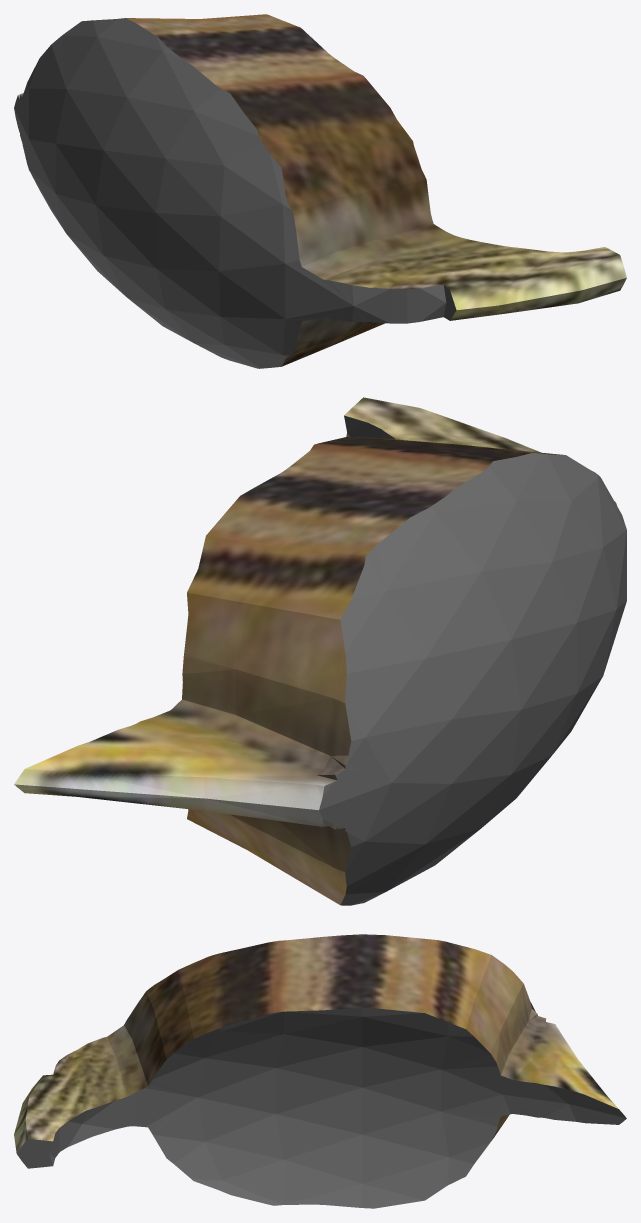
Rendered from link_8_composite.obj.
The picture shows the model from 3 angles, top to bottom: view 1: azimuth 30°, elevation 25°; view 2: azimuth 150°, elevation 25°; view 3: azimuth 270°, elevation 25°; orthographic projection. The views are drawn at different scales.
Parts seen in each view (by area): view 1: joint_7; view 2: joint_7; view 3: joint_7.
Part boxes in pixels (box(x1,y1,x2,y2)): joint_7: box(14, 14, 626, 368); joint_7: box(14, 397, 626, 905); joint_7: box(14, 934, 626, 1208).
Size of the model in its own units: 0.00201 by 0.00167 by 0.00395.
1 material, 1 textured.
